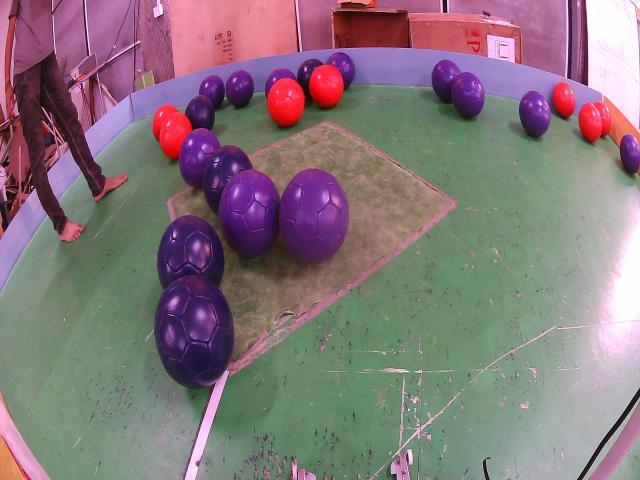jambhalya: (279, 168, 349, 262), (219, 170, 280, 258), (179, 128, 220, 188), (451, 72, 485, 118), (519, 90, 551, 137), (431, 60, 460, 102), (326, 52, 355, 89), (226, 70, 254, 107), (265, 68, 296, 98), (199, 75, 225, 108), (620, 133, 640, 173)
kaalyya: (154, 275, 234, 388), (156, 215, 225, 288), (202, 145, 252, 214), (185, 95, 215, 130), (296, 58, 322, 97)
